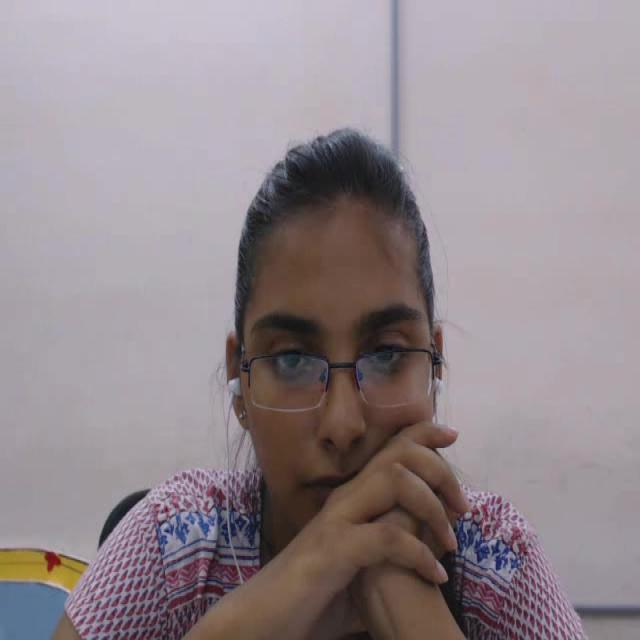Bored: (211, 88, 460, 555)
